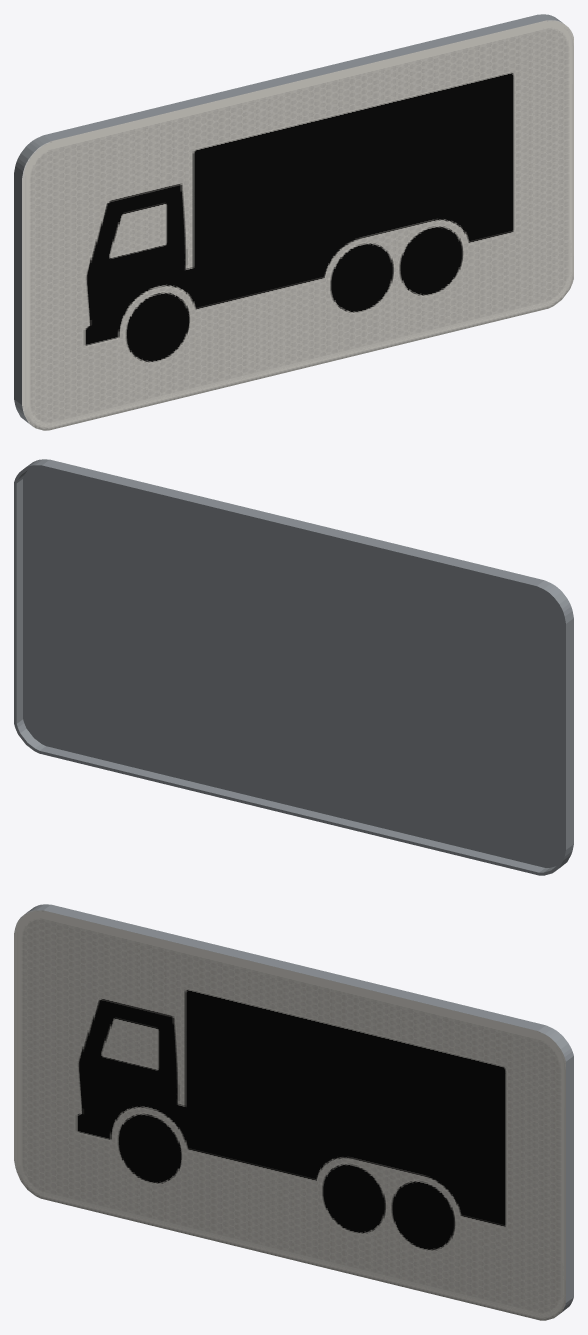
3 renders of one model, top to bottom at view 1: azimuth 30°, elevation 25°; view 2: azimuth 150°, elevation 25°; view 3: azimuth 330°, elevation 25°, orthographic.
Visible parts, largest first — view 1: cat_b91e7d21285b3f93; view 2: cat_b91e7d21285b3f93; view 3: cat_b91e7d21285b3f93.
Boxes of the visible parts, box(x1,y1,x2,y2) form: cat_b91e7d21285b3f93: box(14, 14, 573, 430); cat_b91e7d21285b3f93: box(14, 459, 573, 875); cat_b91e7d21285b3f93: box(14, 904, 573, 1320).
Size of the model in its own units: 0.6 by 0.015 by 0.3.
Materials: 2 (1 with a texture image).
